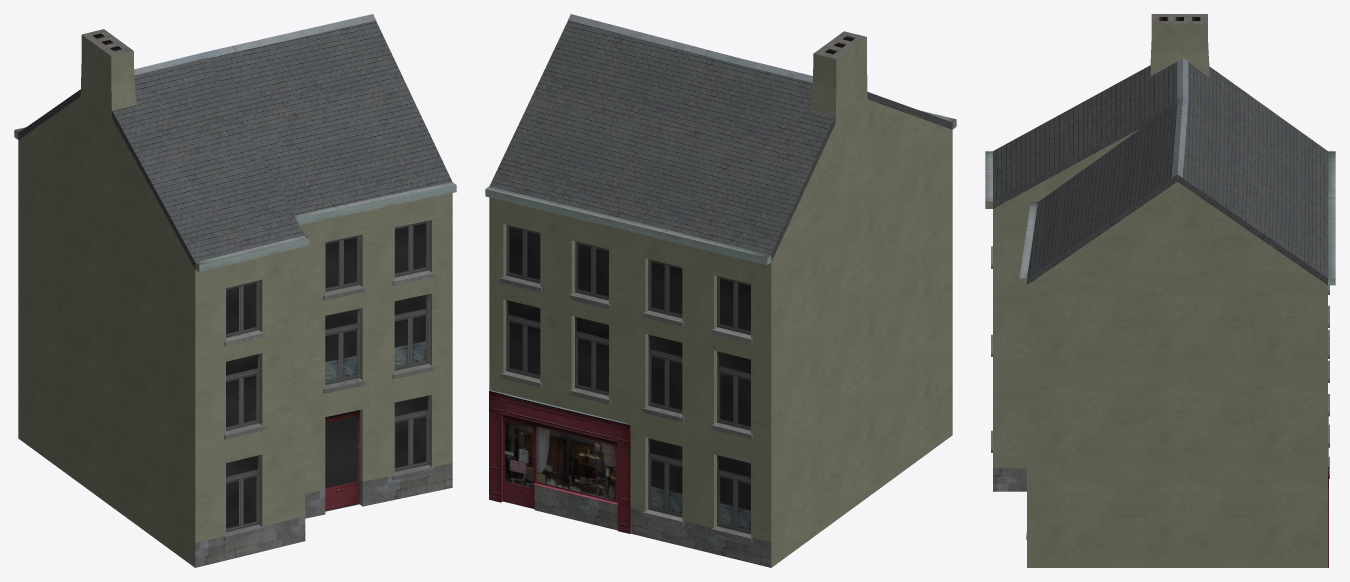
Rendered from shop-townhouse-belgium.glb.
The picture shows the model from 3 angles, left to right: view 1: azimuth 30°, elevation 25°; view 2: azimuth 150°, elevation 25°; view 3: azimuth 270°, elevation 25°; orthographic projection. The views are drawn at different scales.
Parts seen in each view (by area): view 1: MAIN; view 2: MAIN; view 3: MAIN.
Part boxes in pixels (left/top/right/bottom): MAIN: left=14, top=14, right=456, bottom=567; MAIN: left=485, top=14, right=956, bottom=567; MAIN: left=985, top=14, right=1335, bottom=567.
Size of the model in its own units: 8 by 12.51 by 9.3.
1 material, 1 textured.
